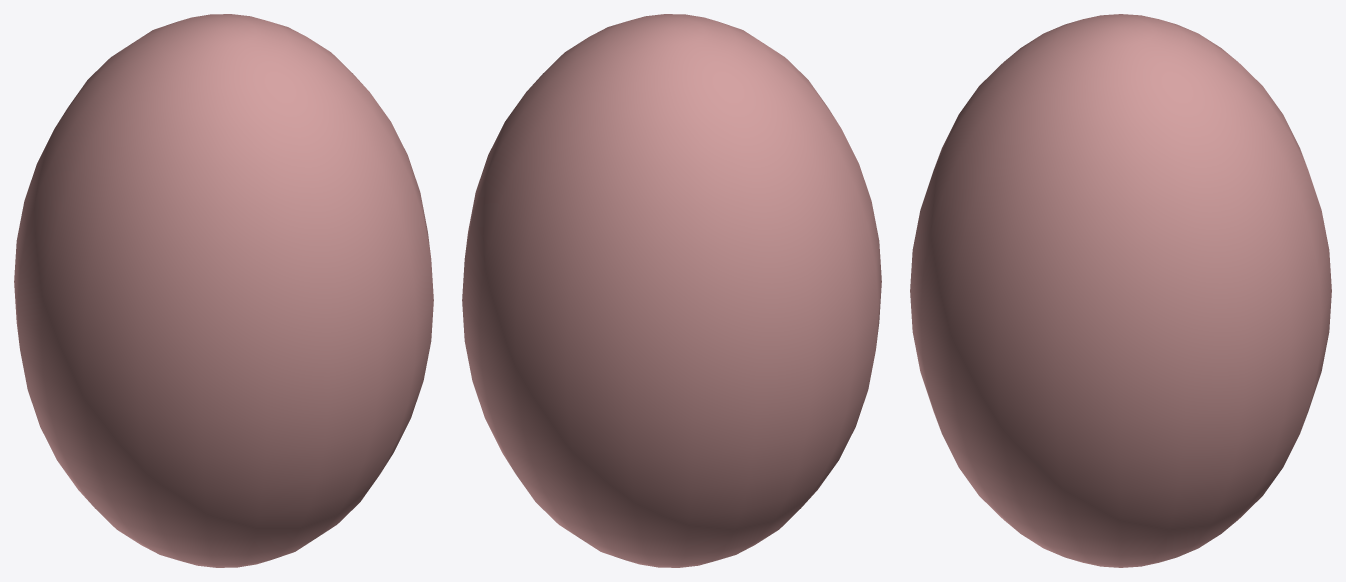
The model's file is Match_Head.fbx.
The picture shows the model from 3 angles, left to right: view 1: azimuth 30°, elevation 25°; view 2: azimuth 150°, elevation 25°; view 3: azimuth 270°, elevation 25°; orthographic projection.
Parts seen in each view (by area): view 1: pSphere1; view 2: pSphere1; view 3: pSphere1.
Boxes of the visible parts, left/top/right/bottom form: pSphere1: left=14, top=14, right=433, bottom=567; pSphere1: left=462, top=14, right=881, bottom=567; pSphere1: left=910, top=14, right=1331, bottom=567.
Bounding box in the file's own units: 2.25 × 3.08 × 2.25.
